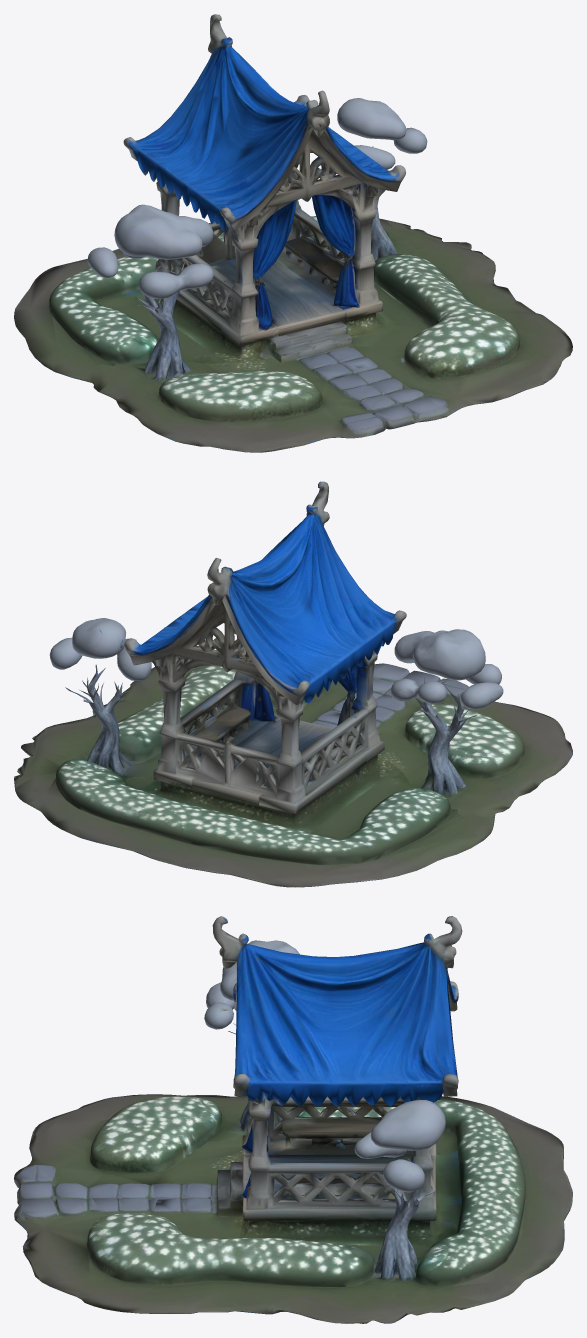
The model's file is elf_farm.glb.
The picture shows the model from 3 angles, top to bottom: view 1: azimuth 30°, elevation 25°; view 2: azimuth 150°, elevation 25°; view 3: azimuth 270°, elevation 25°; orthographic projection. The views are drawn at different scales.
Visible parts, largest first — view 1: node_0; view 2: node_0; view 3: node_0.
Boxes of the visible parts, x1=… form: node_0: x1=14, y1=14, x2=572, y2=452; node_0: x1=14, y1=481, x2=572, y2=887; node_0: x1=14, y1=916, x2=572, y2=1323.
Size of the model in its own units: 0.9444 by 0.5345 by 0.9432.
1 material, 1 textured.
